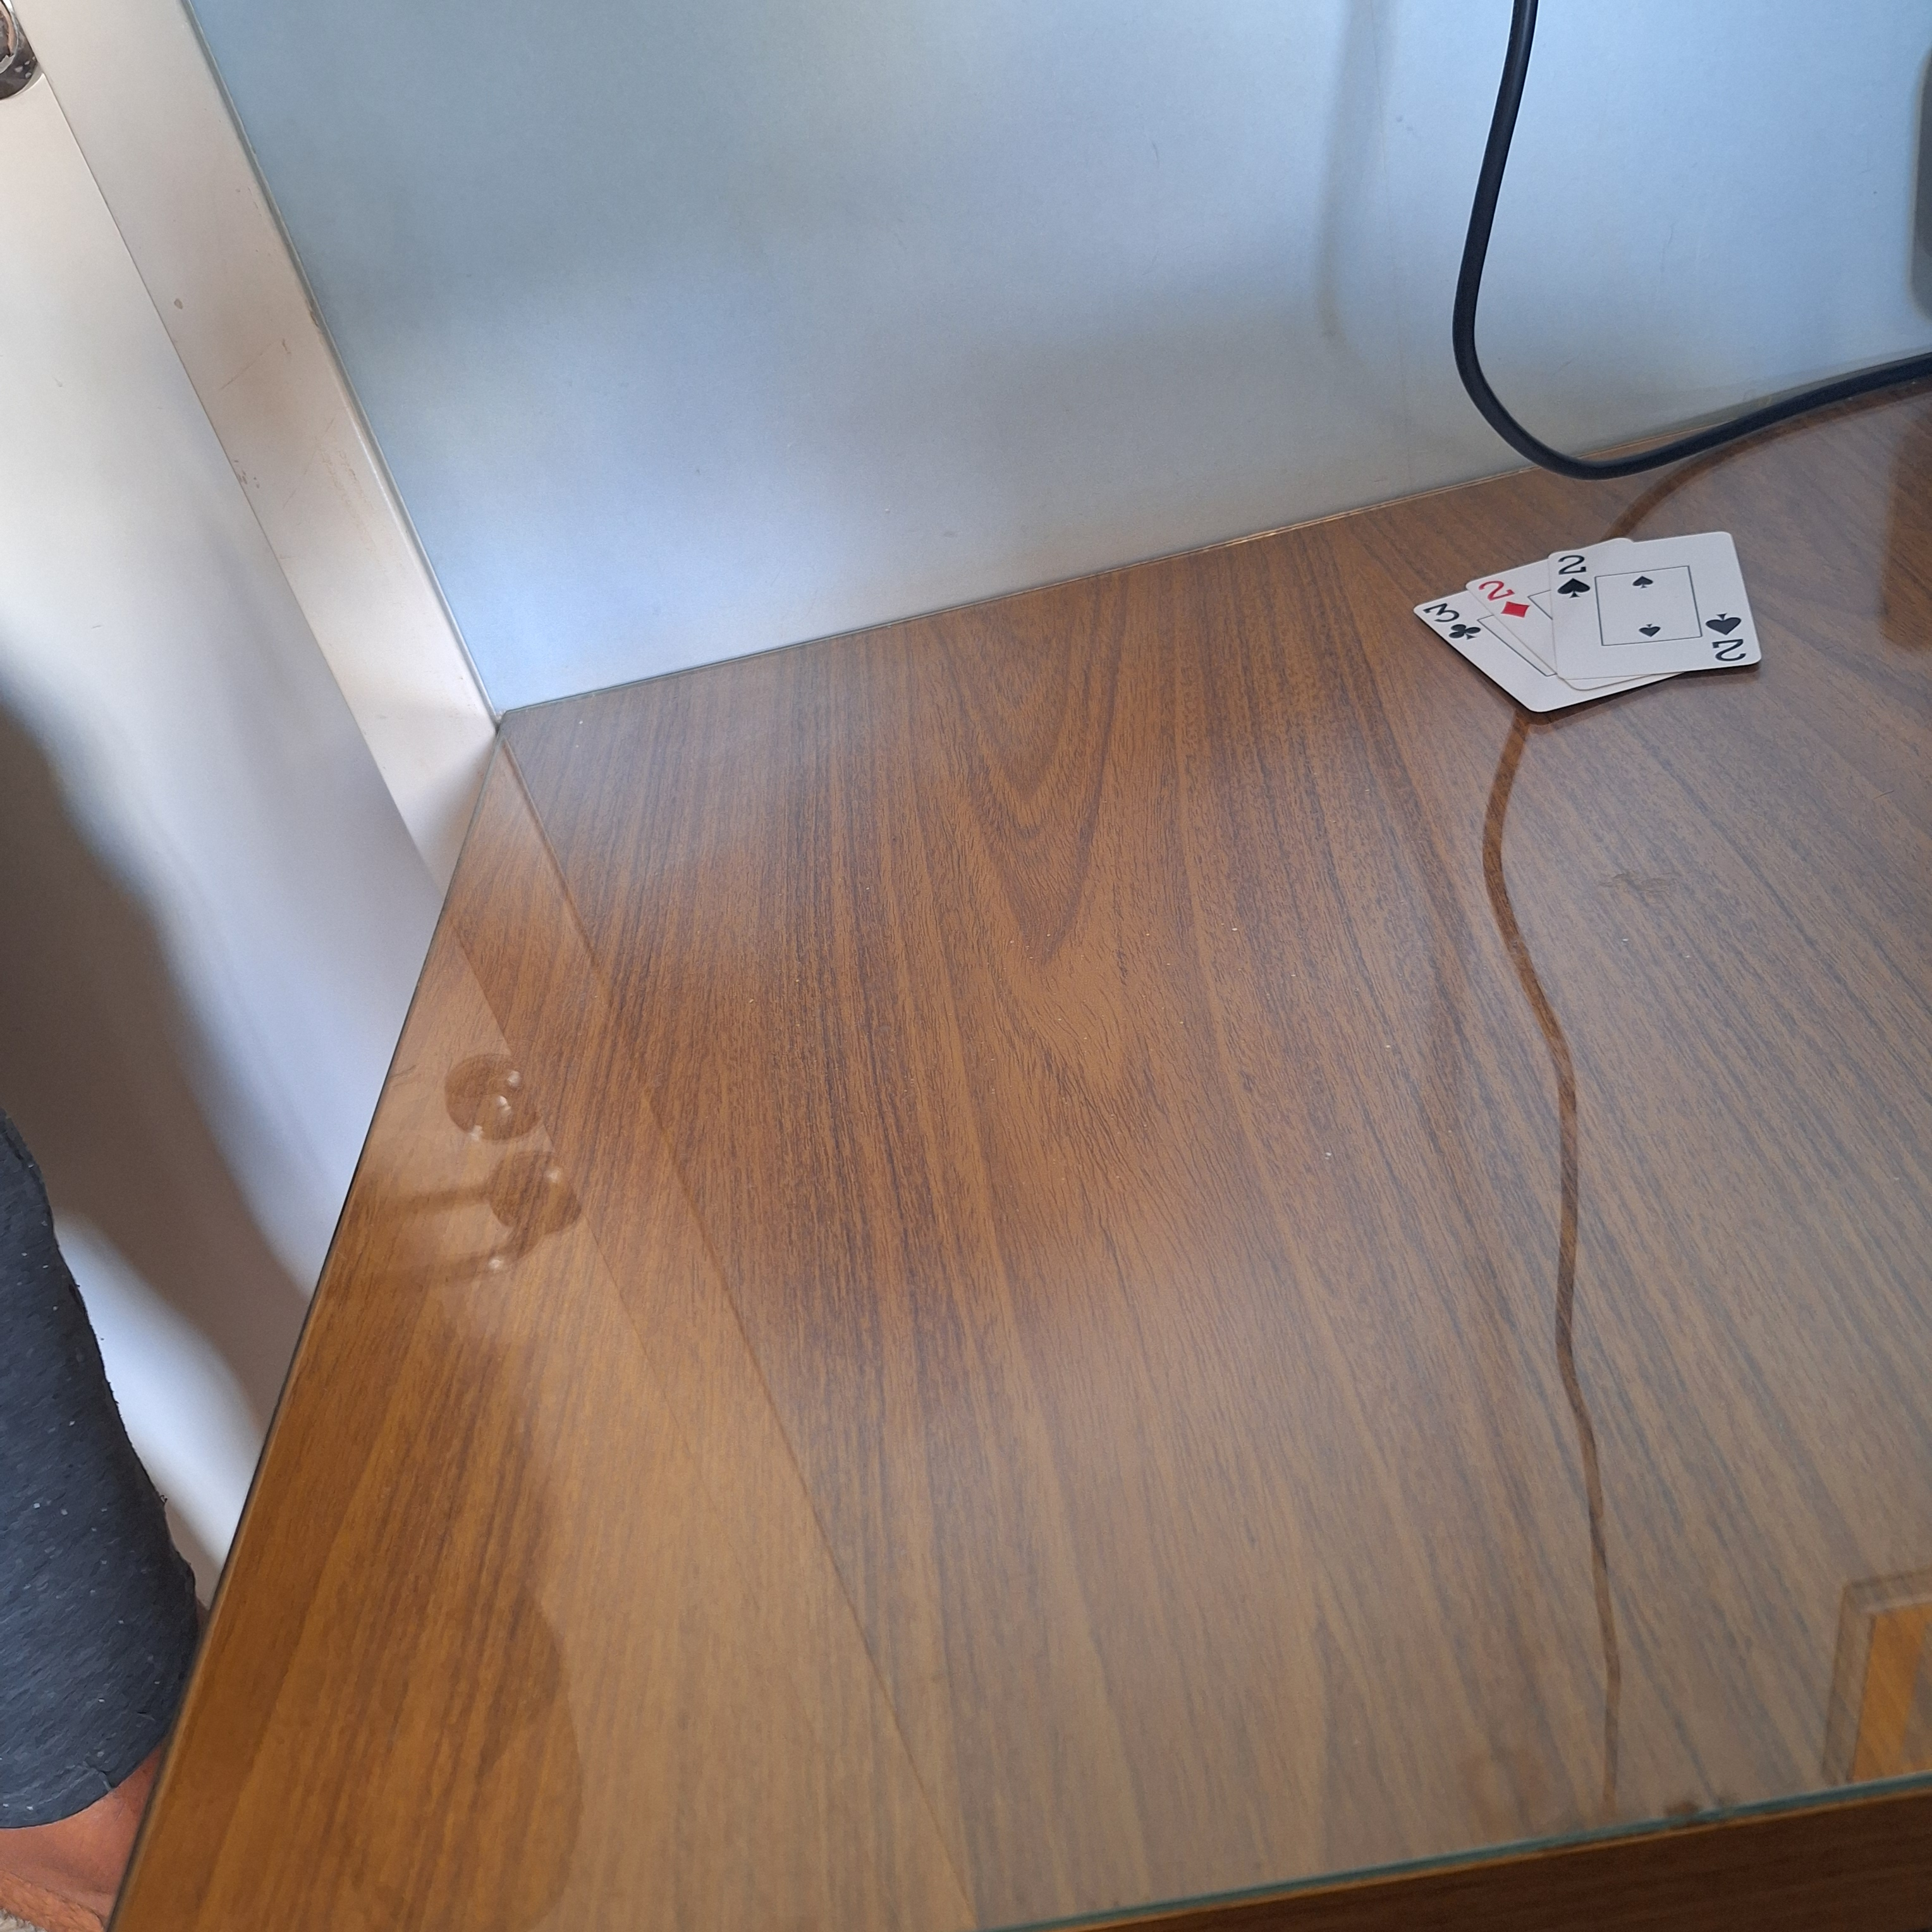2E: (1698, 603, 1757, 671), (1550, 548, 1594, 603)
2O: (1477, 575, 1532, 623)
3P: (1417, 594, 1483, 651)
